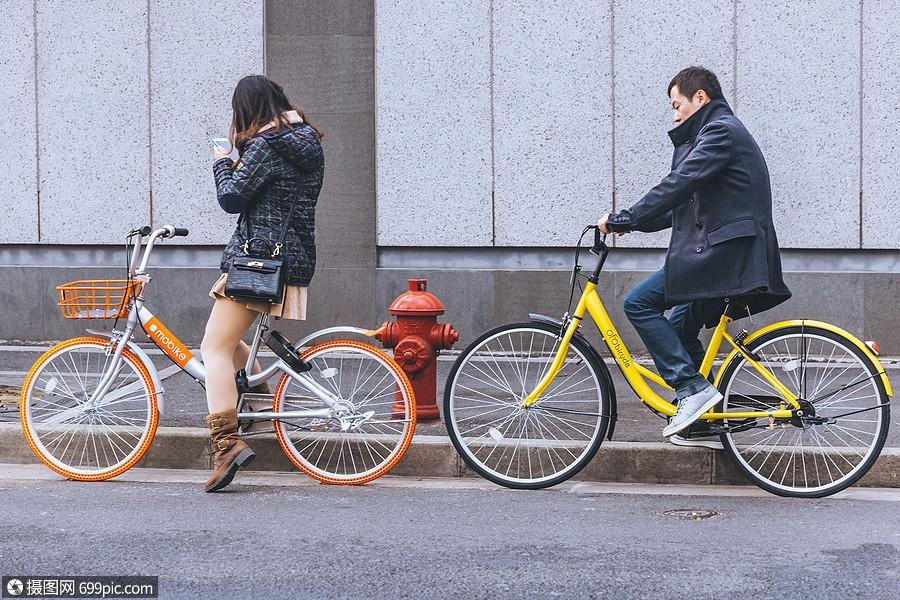non-vehicle: (436, 246, 893, 500), (18, 225, 420, 491)
